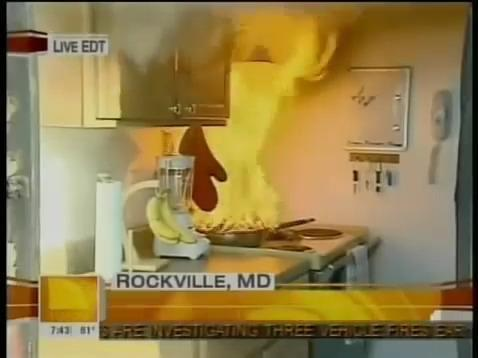fire: (194, 92, 292, 239)
